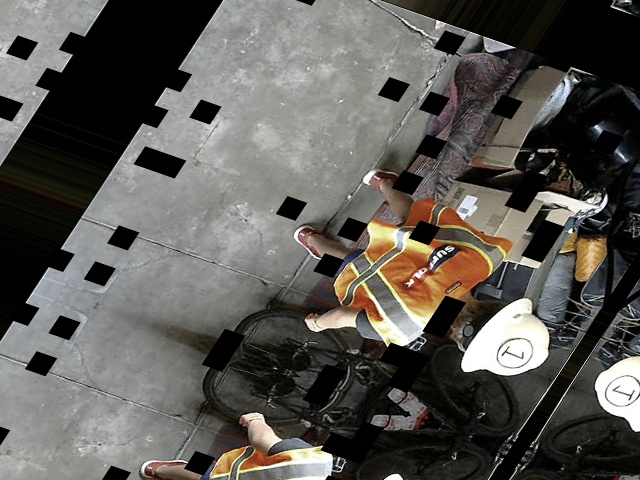one: (490, 333, 539, 372)
